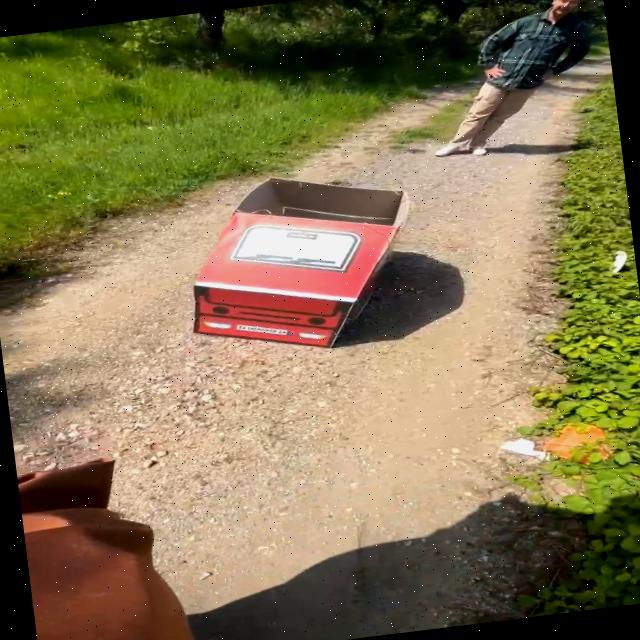red_car: (138, 151, 443, 391)
